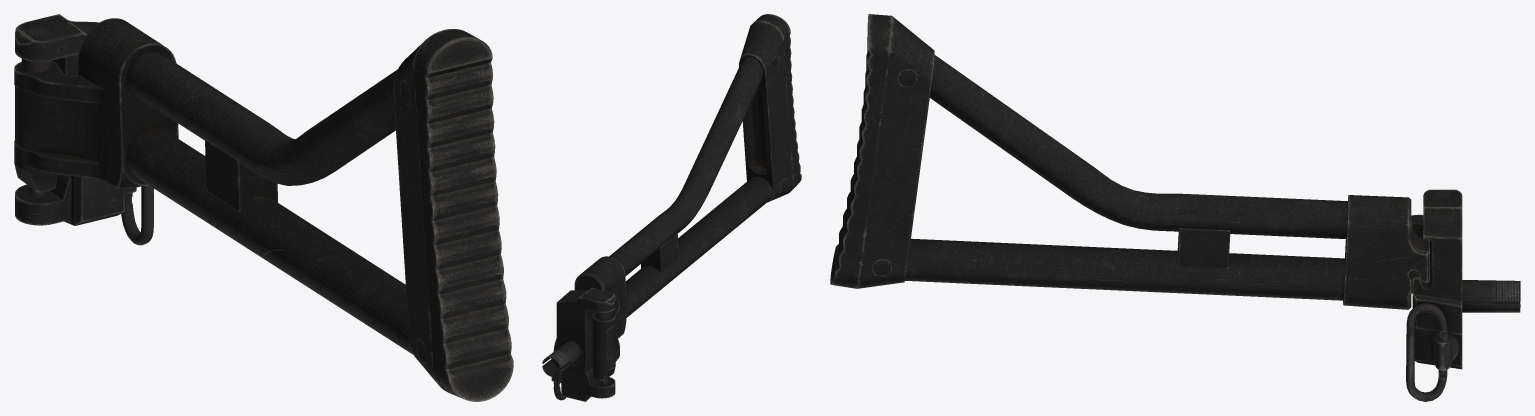
The picture shows the model from 3 angles, left to right: view 1: azimuth 30°, elevation 25°; view 2: azimuth 150°, elevation 25°; view 3: azimuth 270°, elevation 25°; orthographic projection. The views are drawn at different scales.
Parts seen in each view (by area): view 1: TW_5b7d63cf5acfc4001876c8df_PZ_Import; view 2: TW_5b7d63cf5acfc4001876c8df_PZ_Import; view 3: TW_5b7d63cf5acfc4001876c8df_PZ_Import.
Boxes of the visible parts, x1=… form: TW_5b7d63cf5acfc4001876c8df_PZ_Import: x1=14, y1=14, x2=513, y2=401; TW_5b7d63cf5acfc4001876c8df_PZ_Import: x1=542, y1=14, x2=801, y2=401; TW_5b7d63cf5acfc4001876c8df_PZ_Import: x1=830, y1=14, x2=1520, y2=401.
Size of the model in its own units: 0.0255 by 0.1677 by 0.0988.
Materials: 1 (1 with a texture image).
